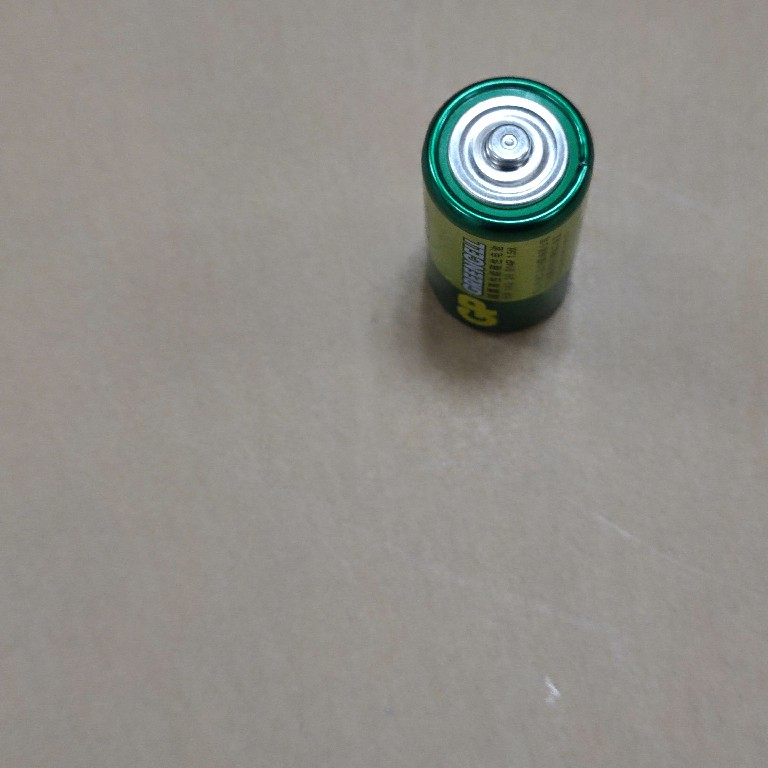charge: (415, 72, 599, 337)
